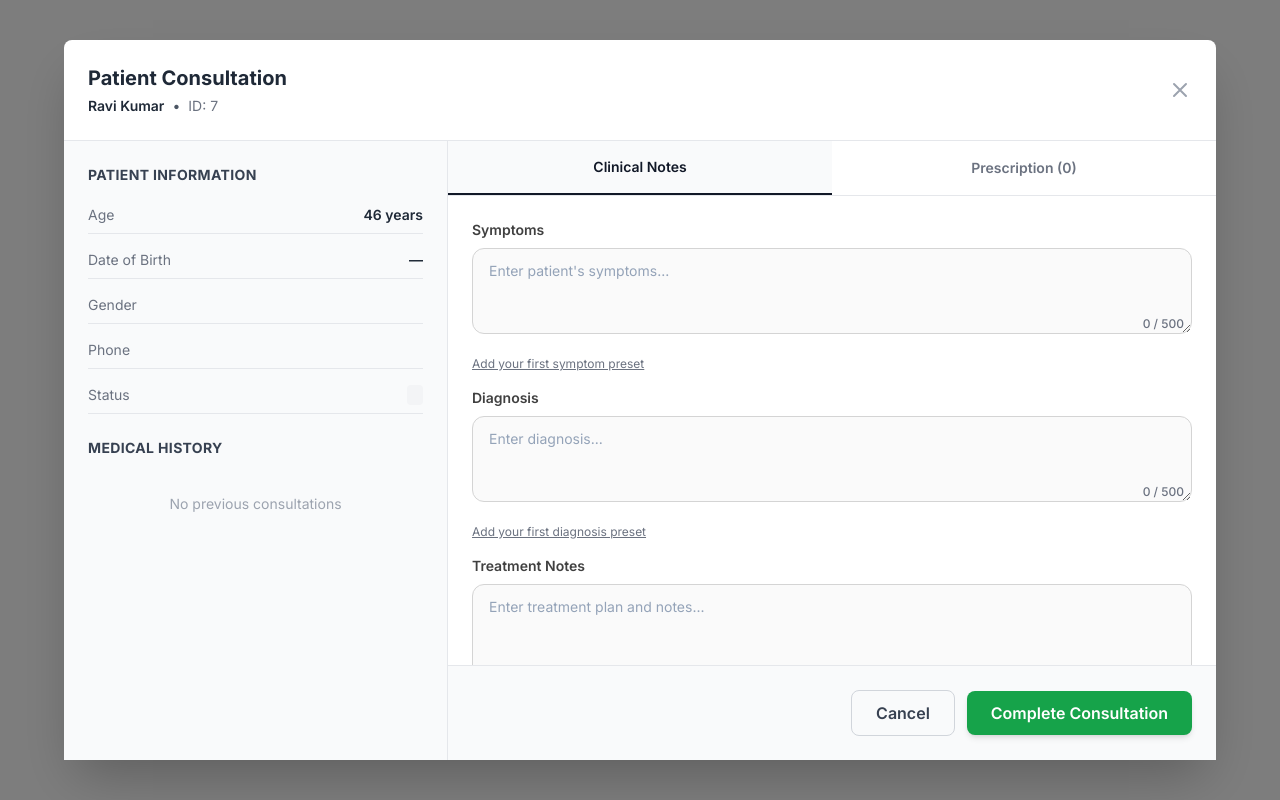
Test: ConsultationModal — catalogue selection is required › lets the consultation through once a catalogue medicine is picked
Click the button "Prescription (0)": click(1024, 168) [832,141,1216,195]
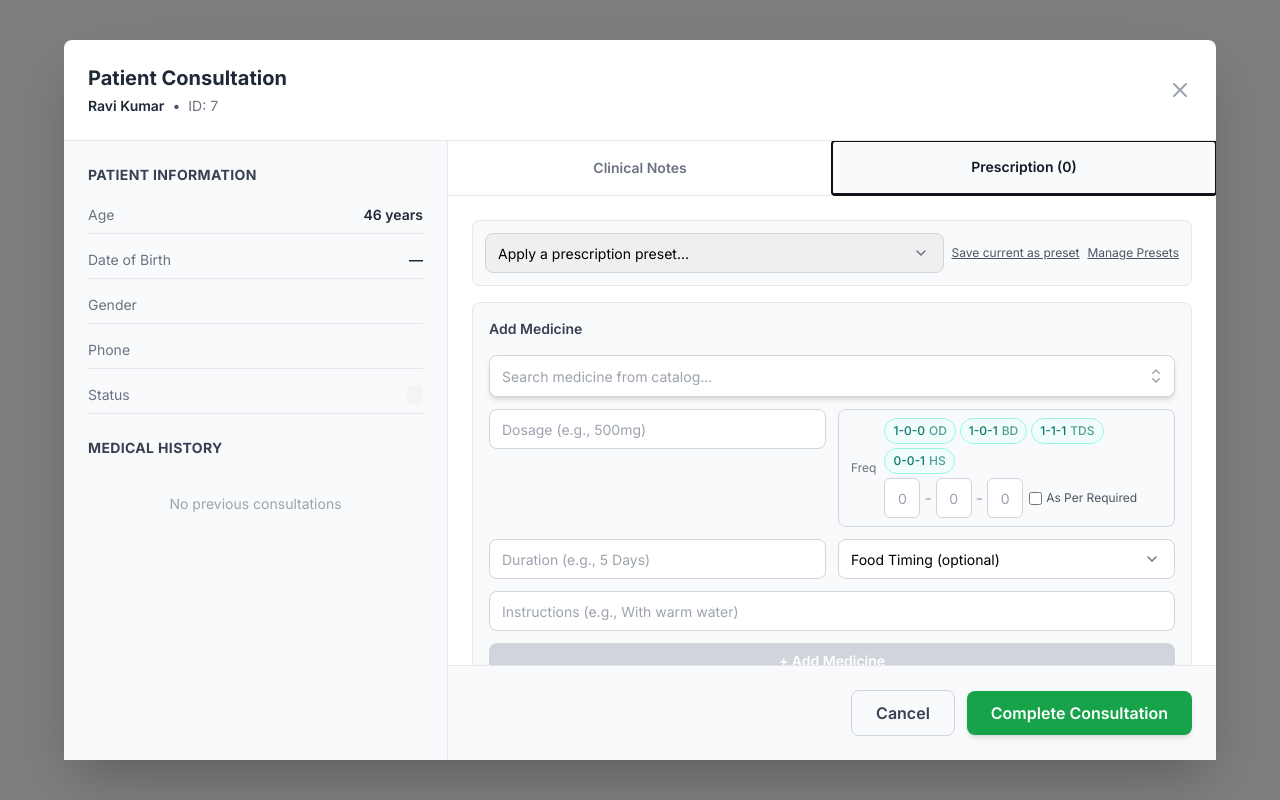
In the dropdown with placeholder "Search medicine from catalog...": (832, 376) [490,356,1174,396], type "Paracet"
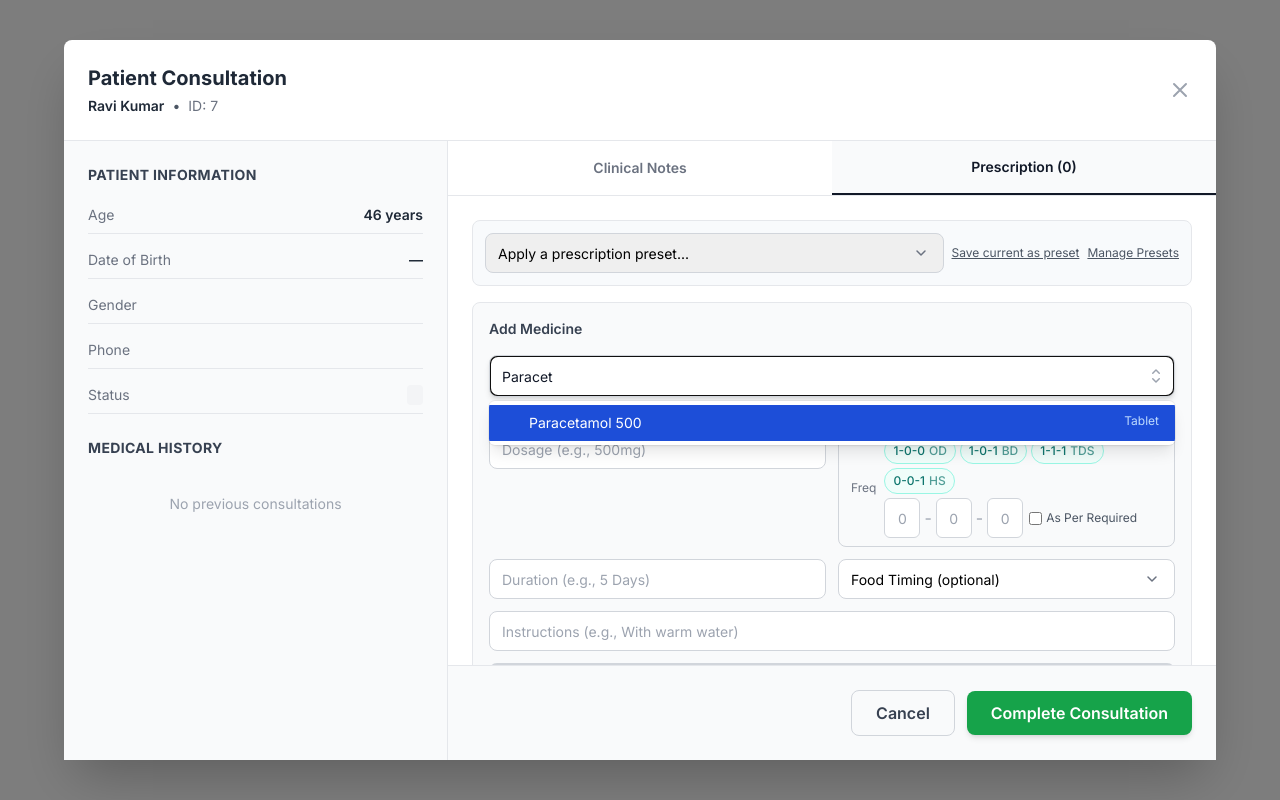
Click the option "Paracetamol 500 Tablet": click(585, 422) [489,405,1175,441]
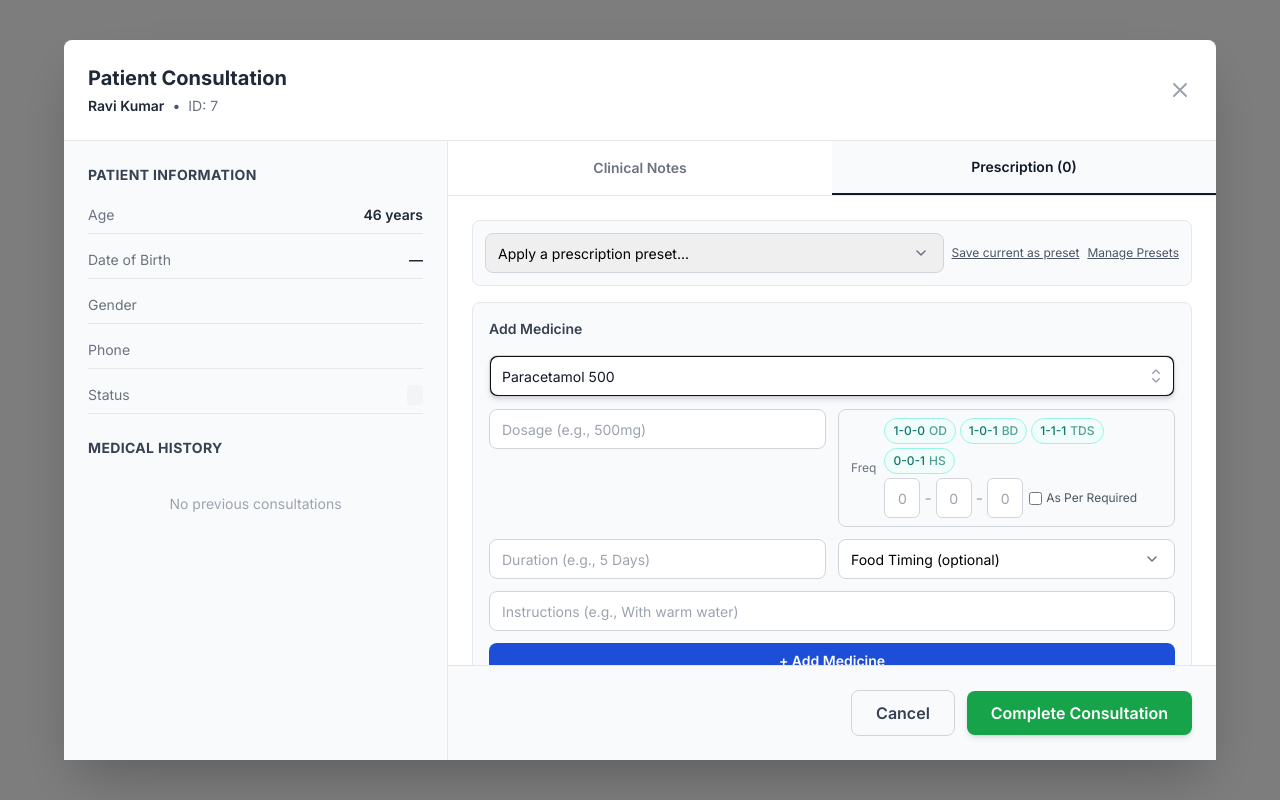
Expected: the text "Select a medicine from the suggestions" is gone
Expected: the button "+ Add Medicine" is enabled, [489,643,1175,665]
